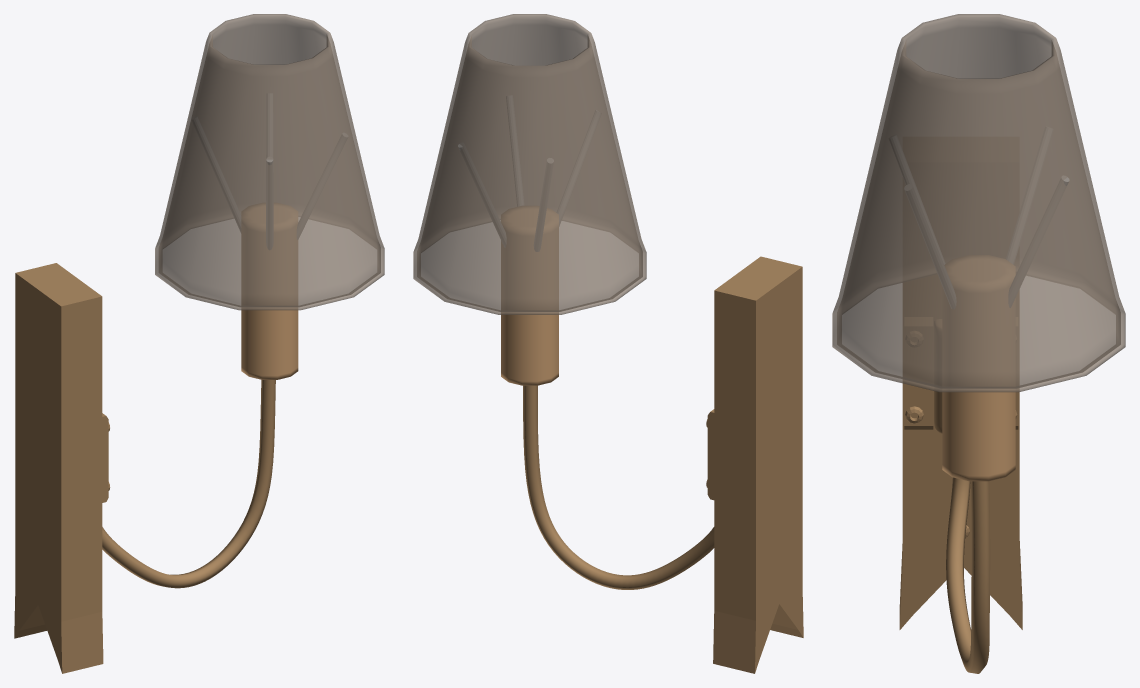
File: hotel_lamp.fbx
The picture shows the model from 3 angles, left to right: view 1: azimuth 30°, elevation 25°; view 2: azimuth 150°, elevation 25°; view 3: azimuth 270°, elevation 25°; orthographic projection. The views are drawn at different scales.
Parts seen in each view (by area): view 1: Cylinder.024, Cube.008, Cylinder.025, NurbsPath.002, Cylinder.017, Cube.007; view 2: Cylinder.024, Cube.008, Cylinder.025, NurbsPath.002, Cylinder.017, Cube.007; view 3: Cylinder.024, Cylinder.025, Cube.008, NurbsPath.002, Cylinder.017, Cube.007, Cube.006, Cylinder.019.
Boxes of the visible parts, x1,y1,x2,y2 form: Cylinder.024: (155, 14, 384, 310); Cube.008: (14, 263, 103, 673); Cylinder.025: (241, 203, 298, 379); NurbsPath.002: (102, 380, 275, 588); Cylinder.017: (191, 93, 347, 249); Cube.007: (102, 413, 108, 502); Cylinder.024: (413, 14, 646, 314); Cube.008: (713, 256, 803, 673); Cylinder.025: (501, 206, 558, 385); NurbsPath.002: (523, 385, 714, 589); Cylinder.017: (458, 95, 600, 251); Cube.007: (707, 409, 714, 500); Cylinder.024: (832, 14, 1125, 392); Cylinder.025: (942, 255, 1015, 481); Cube.008: (899, 275, 1022, 629); NurbsPath.002: (946, 477, 990, 673); Cylinder.017: (890, 127, 1069, 308); Cube.007: (904, 317, 1018, 429); Cube.006: (934, 319, 942, 433); Cylinder.019: (905, 331, 1017, 423).
Bounding box in the file's own units: 546 × 854 × 321.
